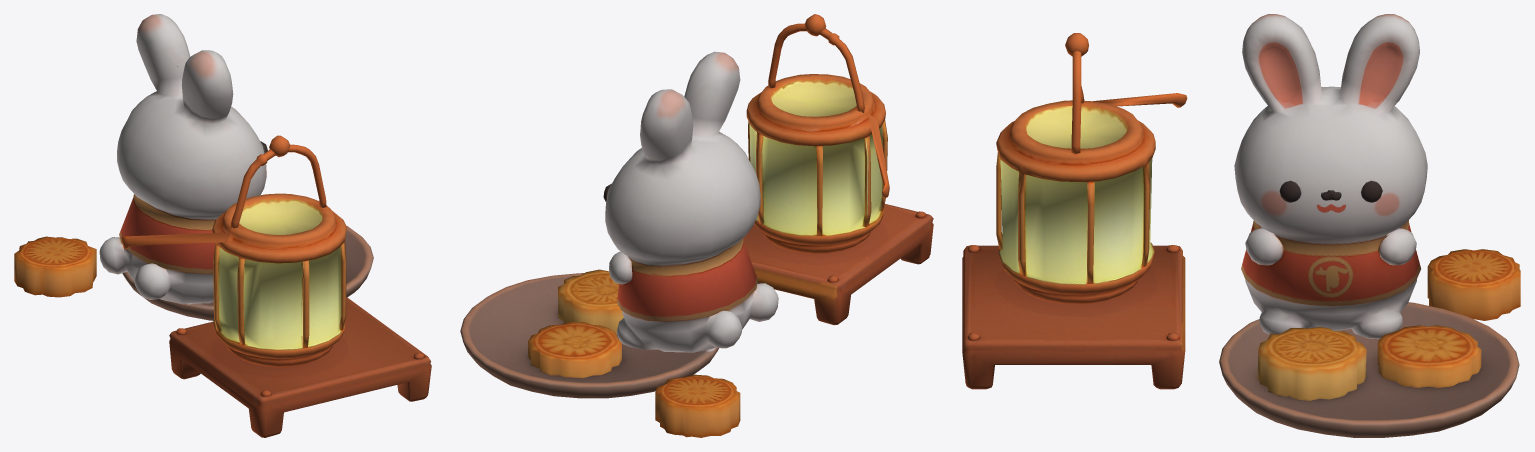
The model's file is tripo_convert_15cbb04a-81c3-40cf-900a-f5dc2e8b21a5.fbx.
The picture shows the model from 3 angles, left to right: view 1: azimuth 30°, elevation 25°; view 2: azimuth 150°, elevation 25°; view 3: azimuth 270°, elevation 25°; orthographic projection. The views are drawn at different scales.
Visible parts, largest first — view 1: tripo_node_15cbb04a; view 2: tripo_node_15cbb04a; view 3: tripo_node_15cbb04a.
Part boxes in pixels (<box>): tripo_node_15cbb04a: <box>14,14,431,437</box>; tripo_node_15cbb04a: <box>460,14,933,437</box>; tripo_node_15cbb04a: <box>962,14,1520,437</box>.
Size of the model in its own units: 0.7598 by 0.6387 by 0.998.
